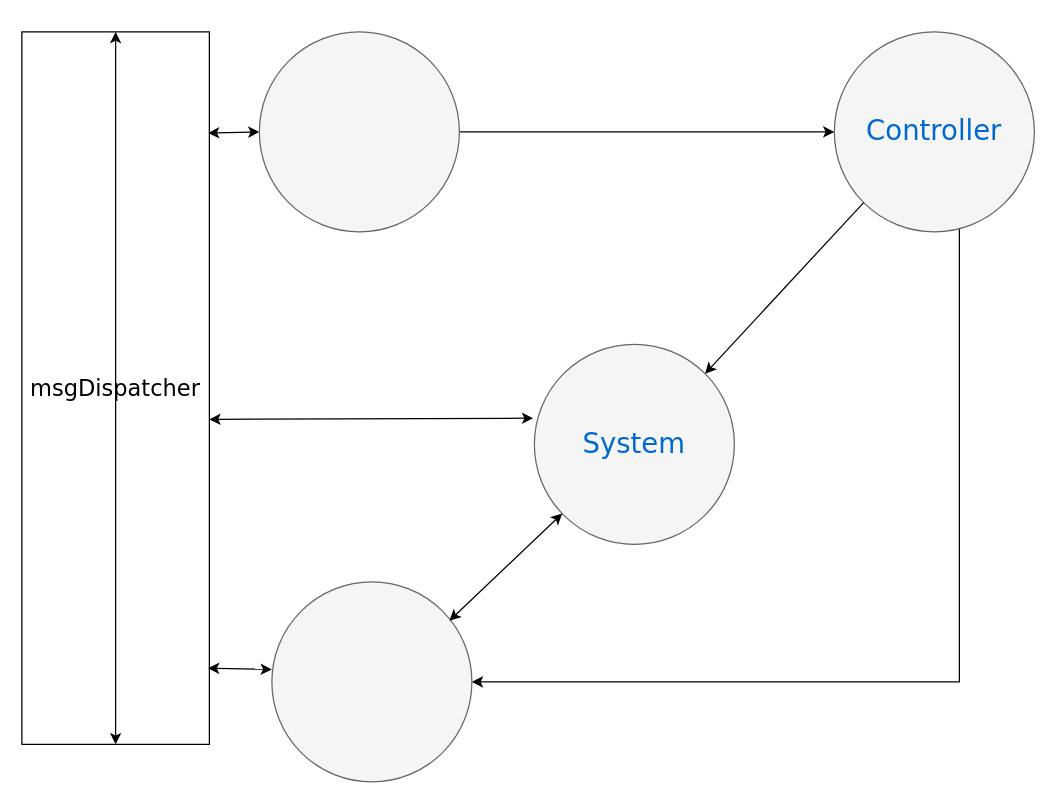
Image size: 1056x804. Some labels were removed from this diagram. The box of each missing label's shape, as (x1, y1, x2, y2) in pixels:
Model: (271, 581, 472, 782)
View: (258, 31, 459, 232)
